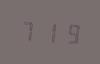nine: (59, 20, 78, 45)
one: (39, 19, 58, 44)
seven: (18, 18, 37, 43)
